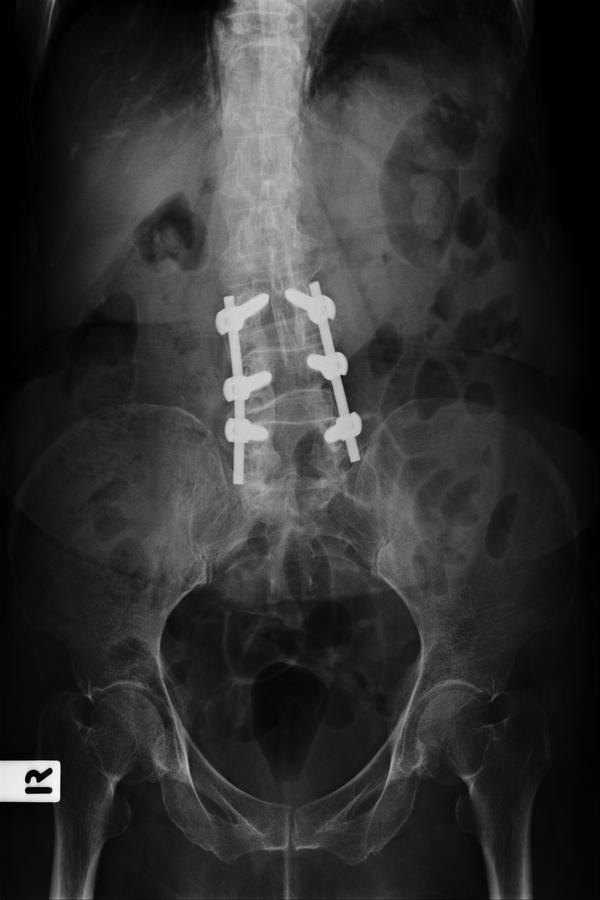lumbar scoliosis: (203, 22, 353, 537)
